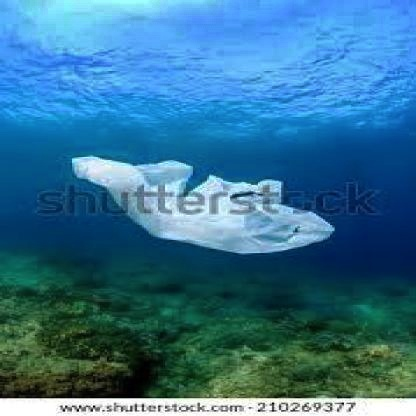pbag: (63, 150, 339, 258)
